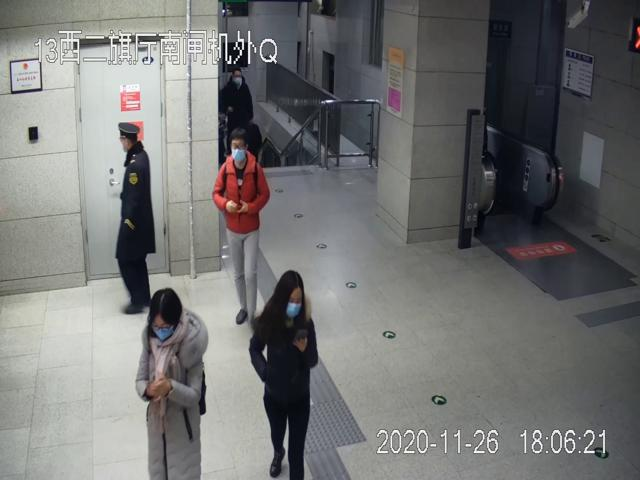person: (250, 268, 319, 480), (134, 286, 207, 480), (213, 125, 271, 330), (115, 119, 157, 313)
